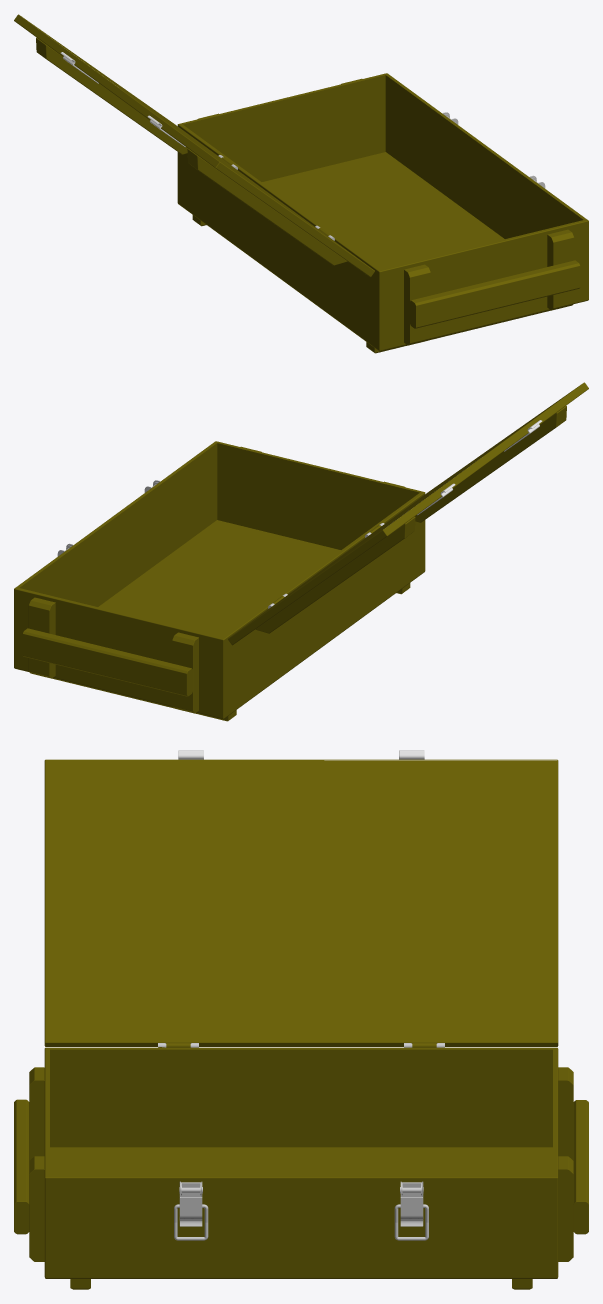
Rendered from wood_crate_open.fbx.
3 views of the same model, one above another, from view 1: azimuth 30°, elevation 25°; view 2: azimuth 150°, elevation 25°; view 3: azimuth 270°, elevation 25° (orthographic). The views are drawn at different scales.
Visible parts, largest first — view 1: Body1.011, Body1.010; view 2: Body1.011, Body1.010; view 3: Body1.010, Body1.011, Body1.006, Body1.007.
Part boxes in pixels (box(x1,y1,x2,y2)): Body1.011: box(177, 73, 588, 353); Body1.010: box(14, 14, 374, 277); Body1.011: box(14, 441, 425, 721); Body1.010: box(228, 382, 588, 645); Body1.010: box(44, 750, 558, 1047); Body1.011: box(14, 1043, 588, 1289); Body1.006: box(400, 1181, 423, 1226); Body1.007: box(179, 1181, 202, 1226).
Bounding box in the file's own units: 1019 × 607 × 1025.
